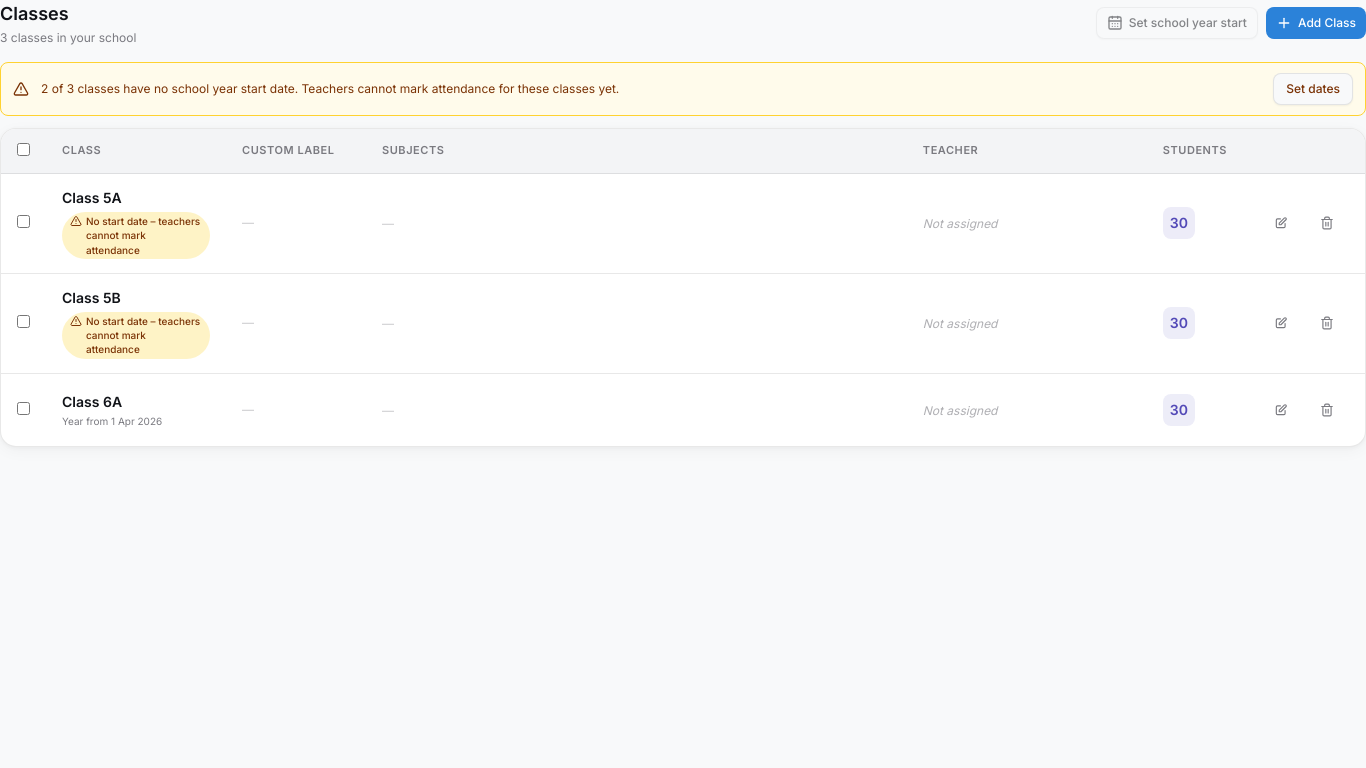
AdminClassesPanel: classes without a school year start date › C3: singular and plural wording › the bulk dialog says '2 classes' / 'these classes' for two selected classes
Click the checkbox named "Select Class 5A" at (24,222), box [17,215,30,228]
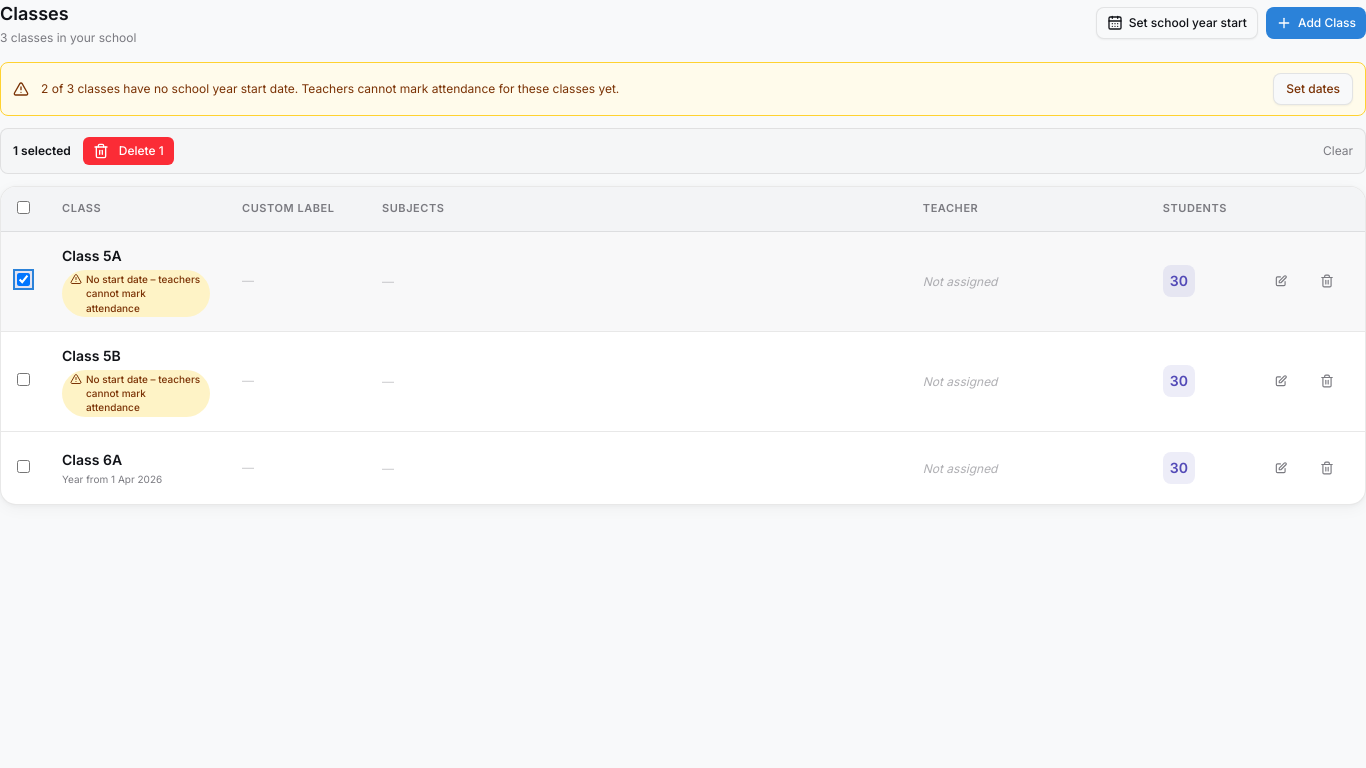
Click the checkbox named "Select Class 5B" at (24,380), box [17,373,30,386]
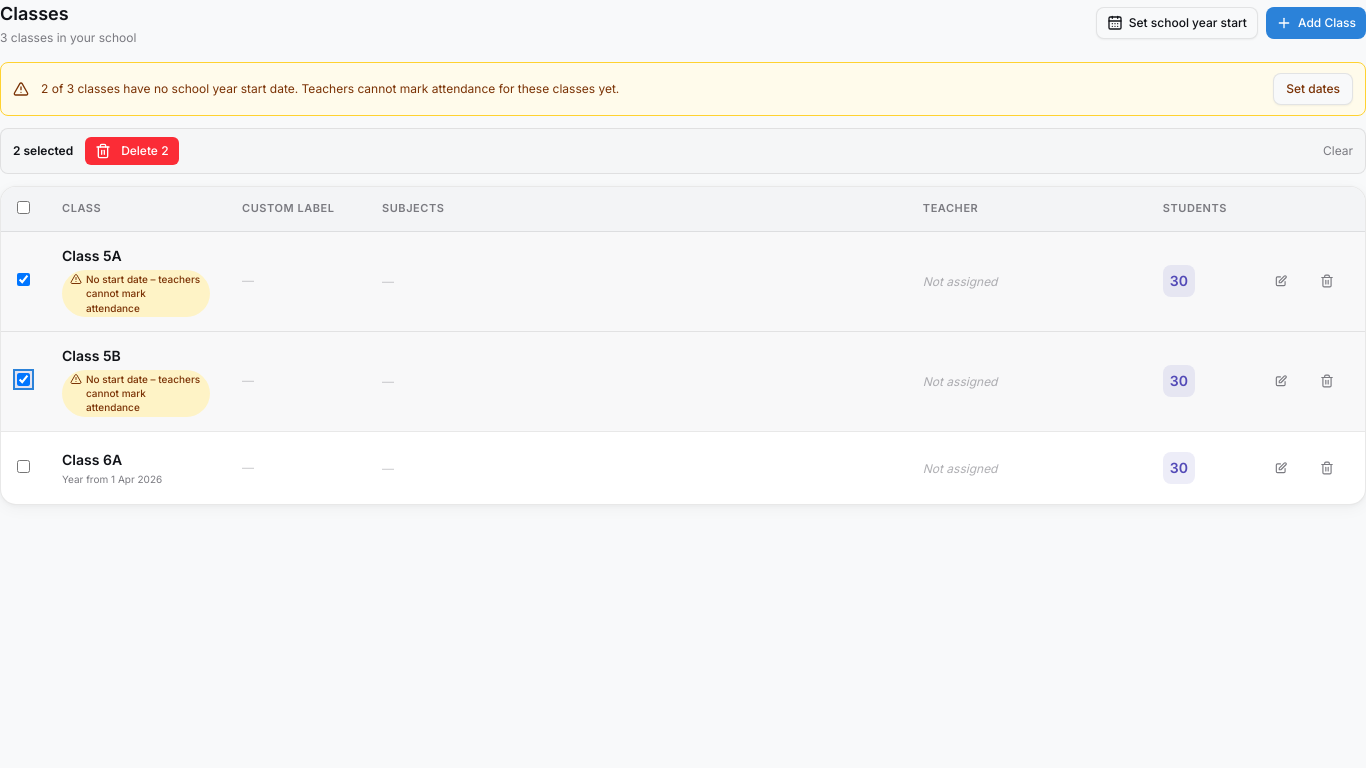
Click the button "Set school year start" at (1177,23), box [1096,7,1258,39]
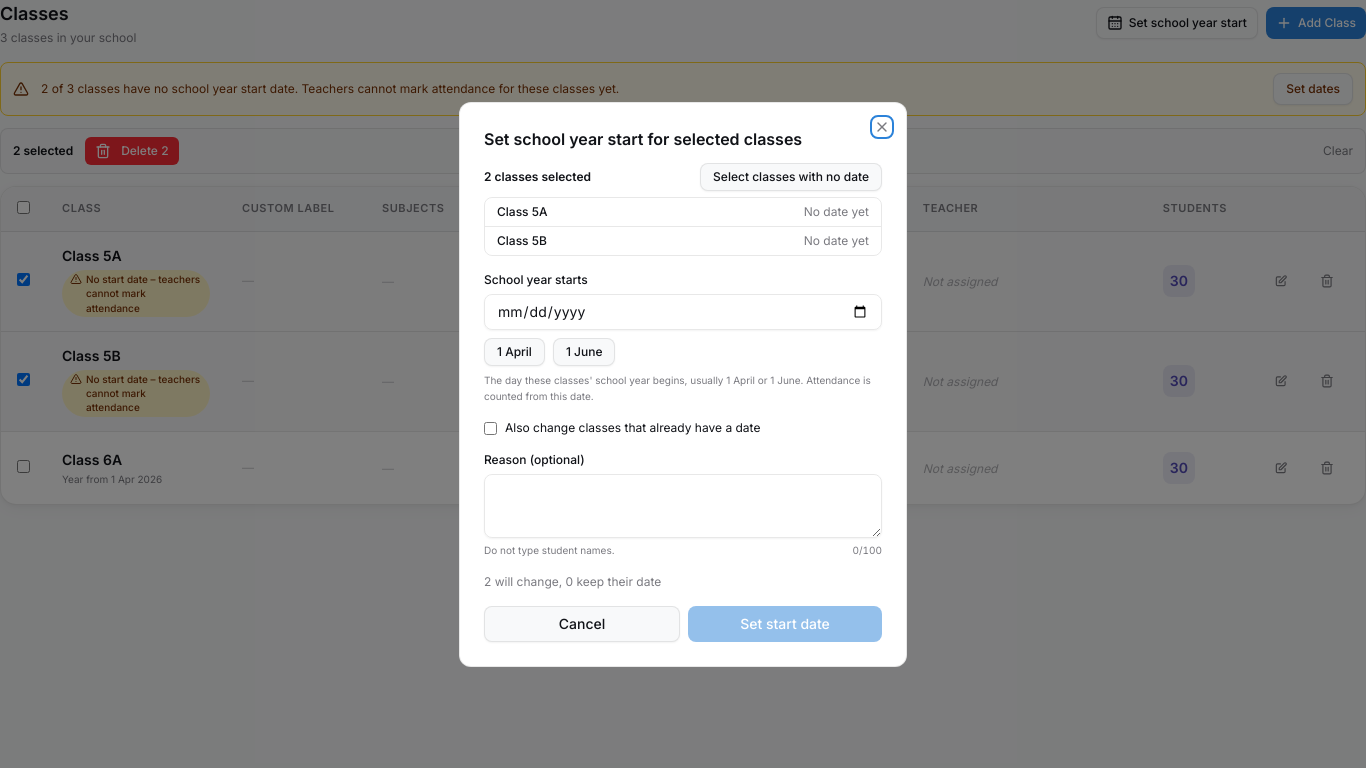
Type "2026-06-01" into the date field labelled "School year starts" at (683,312), box [484,294,882,330]
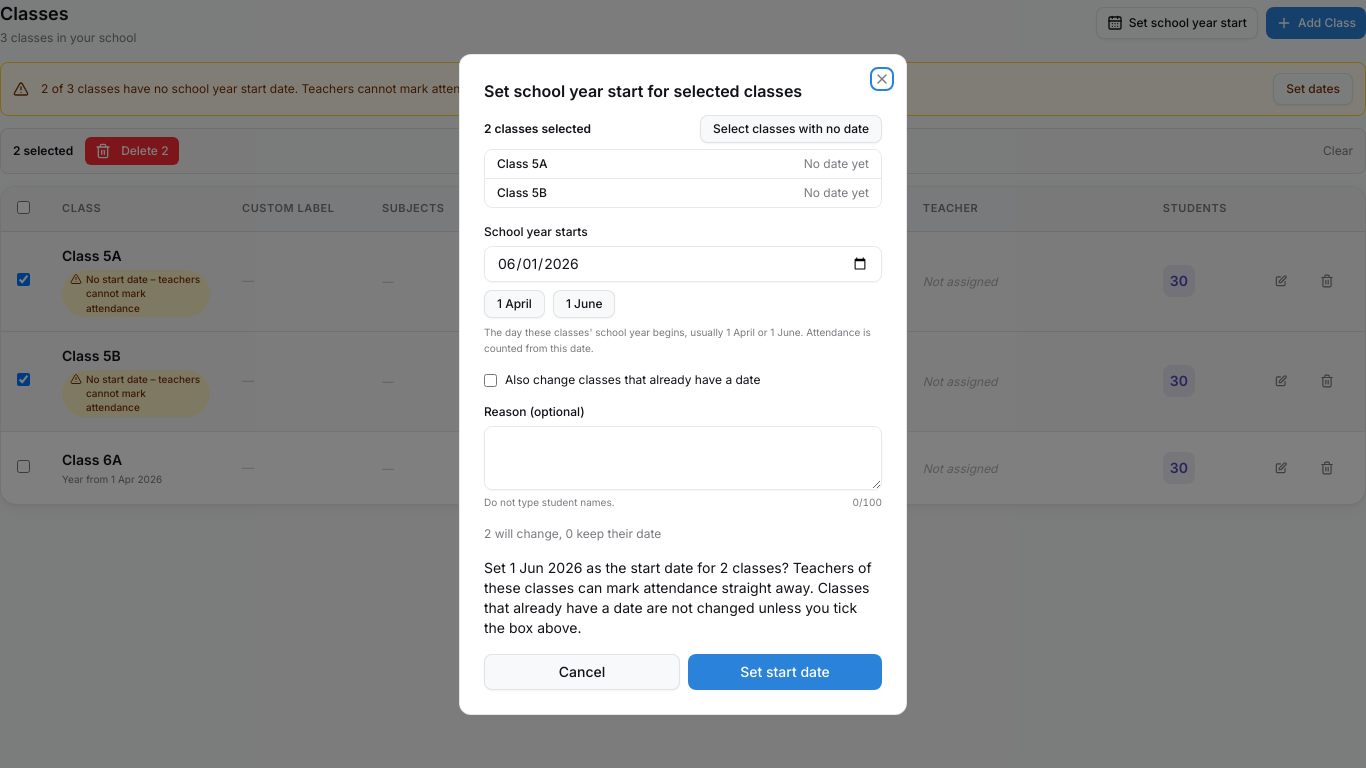
Expected: the text "2 classes selected" is shown, [484,120,591,136]
Expected: the text "2 will change, 0 keep their date" is shown, [484,526,661,540]
Expected: the text "Set 1 Jun 2026 as the start date for 2 classes? Teachers of these classes can mark attendance straight away. Classes tha" is shown, [484,558,872,636]
